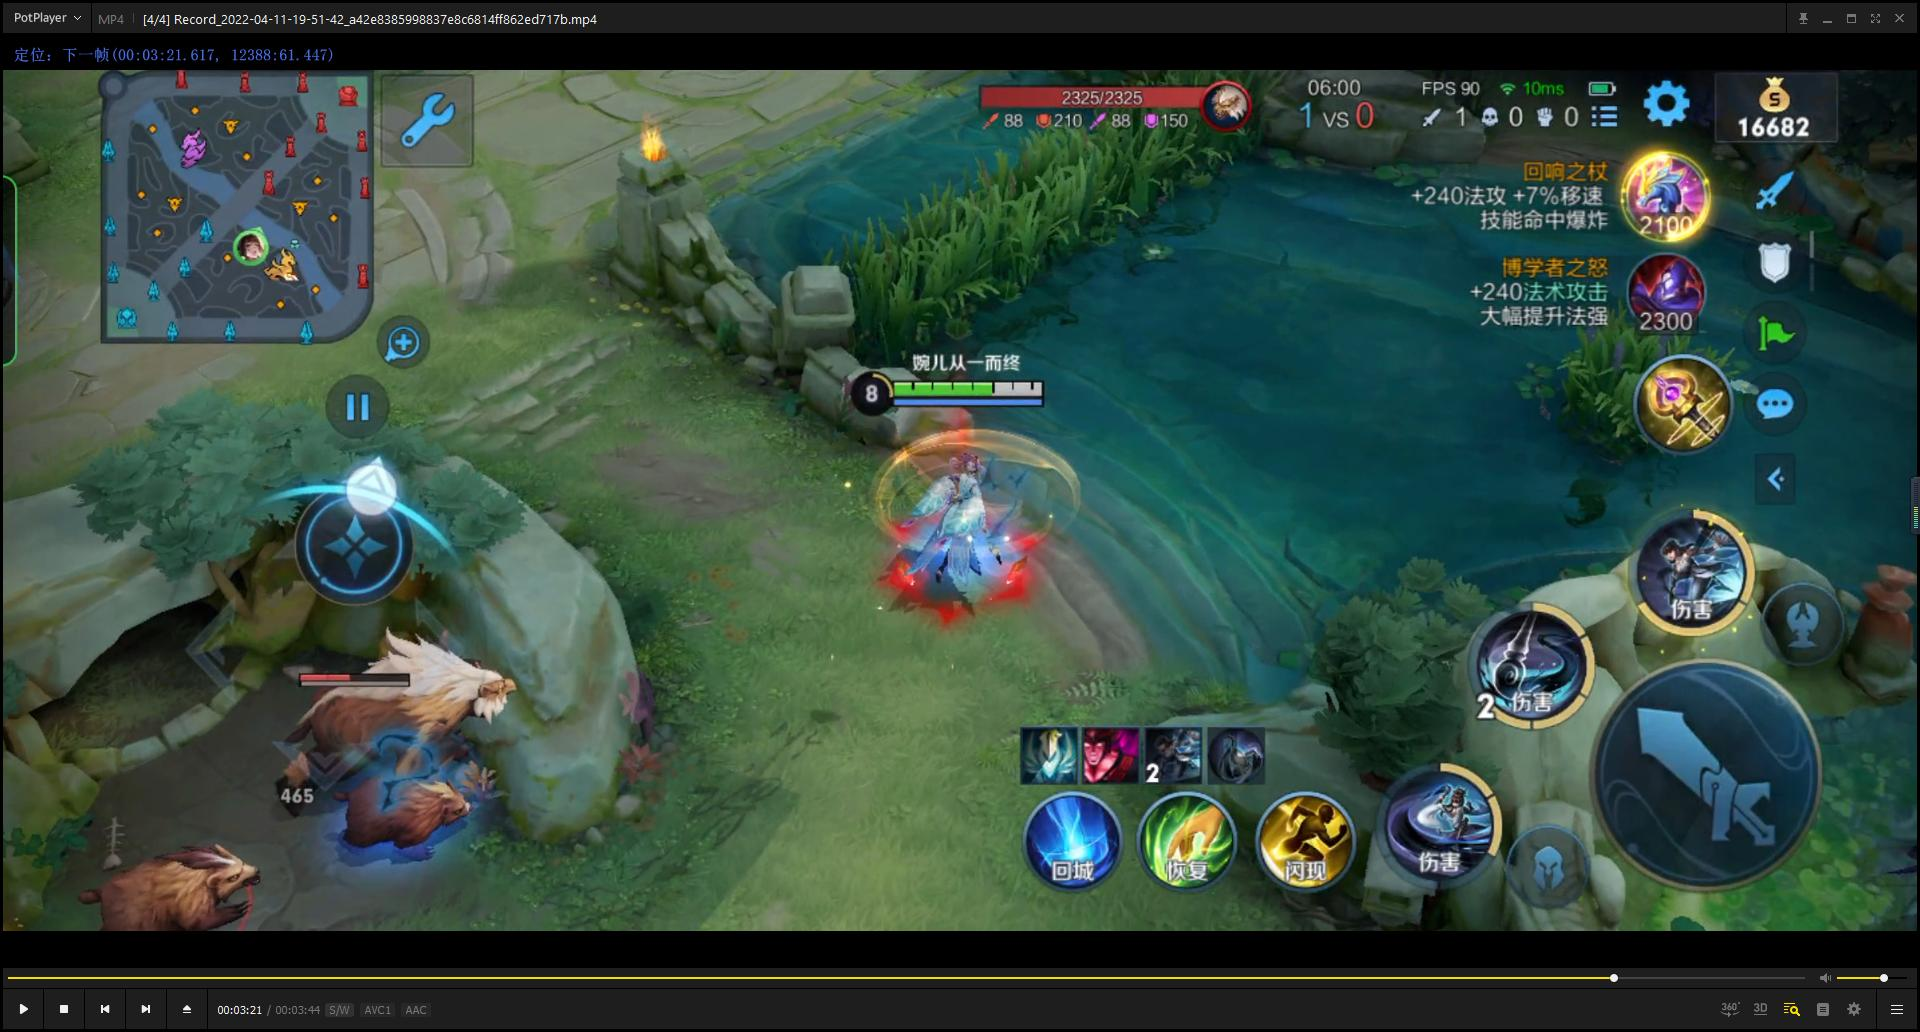Hero: (842, 427, 1090, 657)
Pig: (245, 563, 537, 808), (50, 816, 269, 928), (327, 773, 517, 874)
